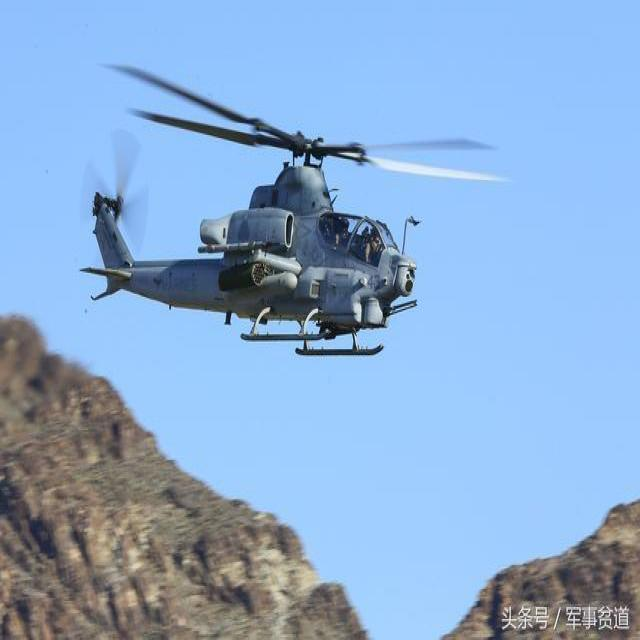MIL_HELO: (74, 56, 512, 363)
